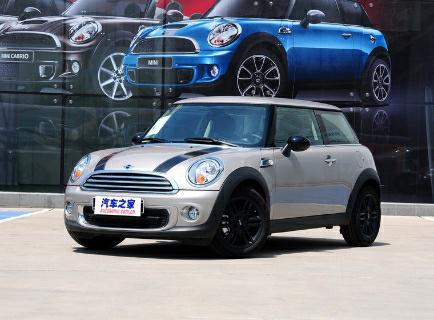MINI: (56, 92, 398, 254), (107, 7, 408, 126)
